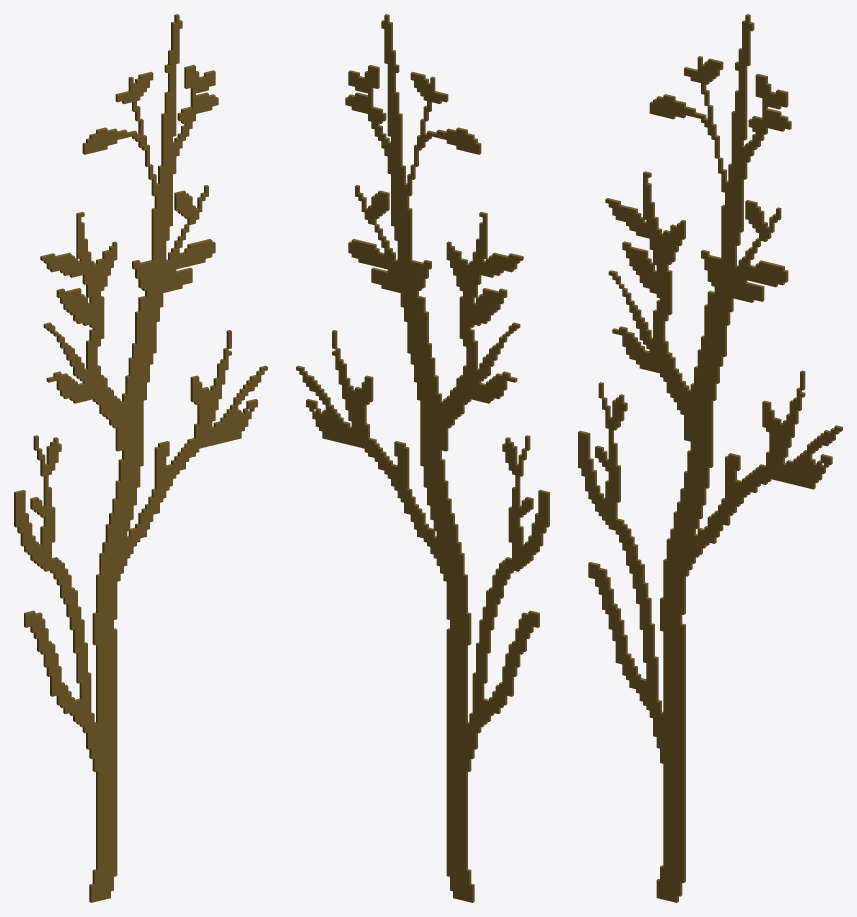
File: forest1.2-95.obj
3 renders of one model, left to right at view 1: azimuth 30°, elevation 25°; view 2: azimuth 150°, elevation 25°; view 3: azimuth 330°, elevation 25°, orthographic. The views are drawn at different scales.
Size of the model in its own units: 7.7 by 25.3 by 0.1.
Materials: 1 (1 with a texture image).
